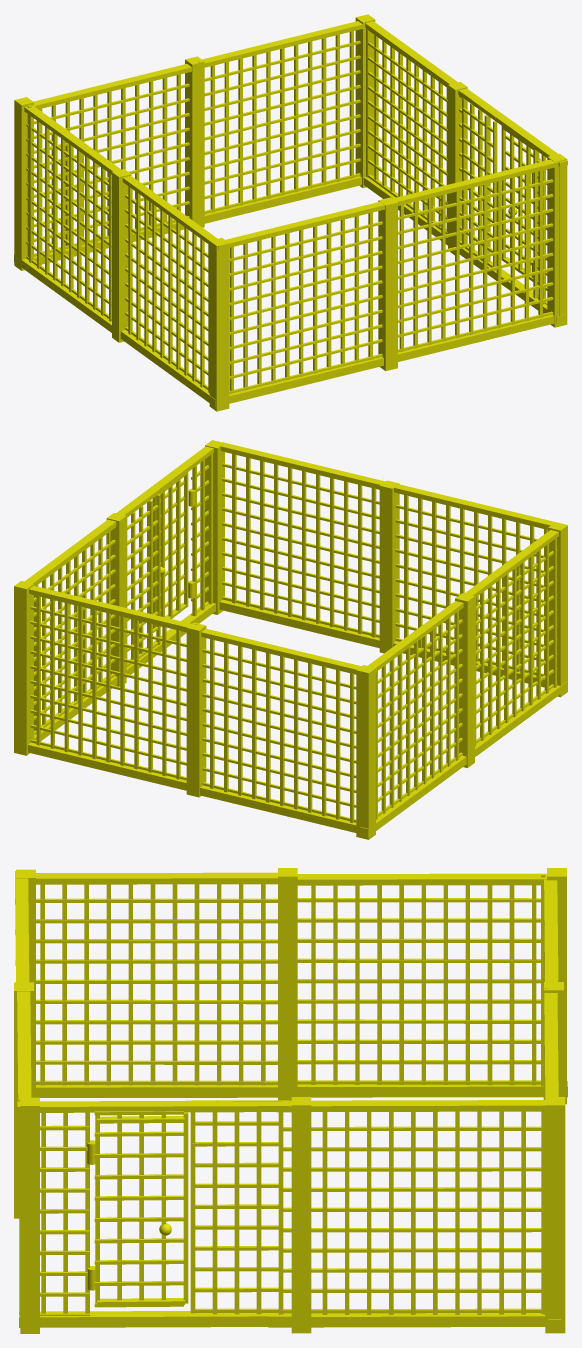
3 renders of one model, top to bottom at view 1: azimuth 30°, elevation 25°; view 2: azimuth 150°, elevation 25°; view 3: azimuth 270°, elevation 25°, orthographic. The views are drawn at different scales.
Parts seen in each view (by area): view 1: Cube.040, Cube.037, Cube.006, Cube.027, Cube.003, Cube.026, Cube.020, Cube.002, Cube.007, Cube.030, Cube.031, Cube.021 (+34 smaller); view 2: Cube.006, Cube.027, Cube.030, Cube.037, Cube.040, Cube.026, Cube.007, Cube.003, Cube.031, Cube.020, Cube.052, Cube.045 (+33 smaller); view 3: Cube.020, Cube.036, Cube.041, Cube.040, Cube.037, Cube.021, Cube.053, Cube.049, Cube.050, Cube.051, Cube.047, Cube.046 (+26 smaller).
Boxes of the visible parts, left/top/right/bottom form: Cube.040: left=128, top=186, right=209, bottom=392; Cube.037: left=29, top=115, right=111, bottom=321; Cube.006: left=399, top=170, right=542, bottom=351; Cube.027: left=210, top=31, right=353, bottom=212; Cube.003: left=229, top=212, right=372, bottom=393; Cube.026: left=204, top=40, right=360, bottom=213; Cube.020: left=370, top=32, right=467, bottom=244; Cube.002: left=229, top=221, right=382, bottom=393; Cube.007: left=398, top=179, right=553, bottom=352; Cube.030: left=39, top=74, right=180, bottom=250; Cube.031: left=34, top=83, right=189, bottom=256; Cube.021: left=368, top=30, right=462, bottom=245; Cube.006: left=232, top=453, right=376, bottom=637; Cube.027: left=36, top=595, right=180, bottom=779; Cube.030: left=210, top=639, right=354, bottom=822; Cube.037: left=376, top=611, right=458, bottom=819; Cube.040: left=475, top=538, right=556, bottom=746; Cube.026: left=30, top=594, right=186, bottom=780; Cube.007: left=222, top=451, right=379, bottom=637; Cube.003: left=404, top=494, right=547, bottom=674; Cube.031: left=202, top=637, right=356, bottom=822; Cube.020: left=34, top=531, right=110, bottom=730; Cube.052: left=186, top=622, right=206, bottom=797; Cube.045: left=356, top=665, right=375, bottom=839; Cube.020: left=278, top=1111, right=545, bottom=1314; Cube.036: left=297, top=898, right=540, bottom=1084; Cube.041: left=36, top=898, right=277, bottom=1084; Cube.040: left=40, top=884, right=265, bottom=1085; Cube.037: left=311, top=885, right=536, bottom=1085; Cube.021: left=283, top=1126, right=541, bottom=1313; Cube.053: left=291, top=1097, right=311, bottom=1333; Cube.049: left=545, top=1097, right=565, bottom=1333; Cube.050: left=20, top=1097, right=39, bottom=1333; Cube.051: left=278, top=868, right=297, bottom=1100; Cube.047: left=94, top=1111, right=183, bottom=1307; Cube.046: left=95, top=1112, right=188, bottom=1303.
Bounding box in the file's own units: 40.2 × 17.88 × 39.27.
